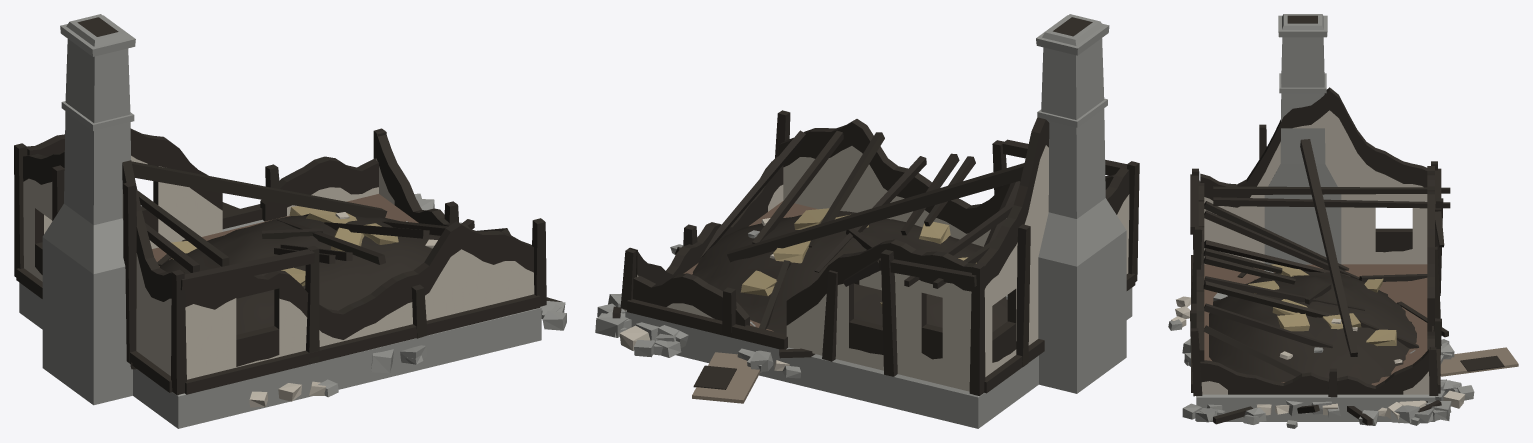
The model's file is house_ruin.glb.
The picture shows the model from 3 angles, left to right: view 1: azimuth 30°, elevation 25°; view 2: azimuth 150°, elevation 25°; view 3: azimuth 270°, elevation 25°; orthographic projection. The views are drawn at different scales.
Visible parts, largest first — view 1: house_ruin; view 2: house_ruin; view 3: house_ruin.
Boxes of the visible parts, left/top/right/bottom form: house_ruin: left=14, top=14, right=566, bottom=428; house_ruin: left=595, top=14, right=1139, bottom=428; house_ruin: left=1168, top=14, right=1518, bottom=428.
Size of the model in its own units: 9.16 by 6.85 by 8.2.
